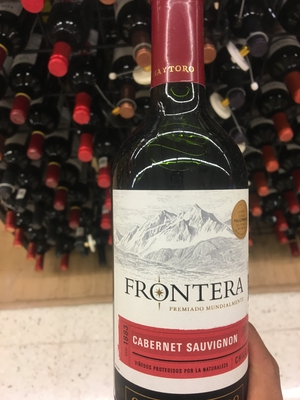frontera cabernet sauvignon: (106, 1, 251, 400)
